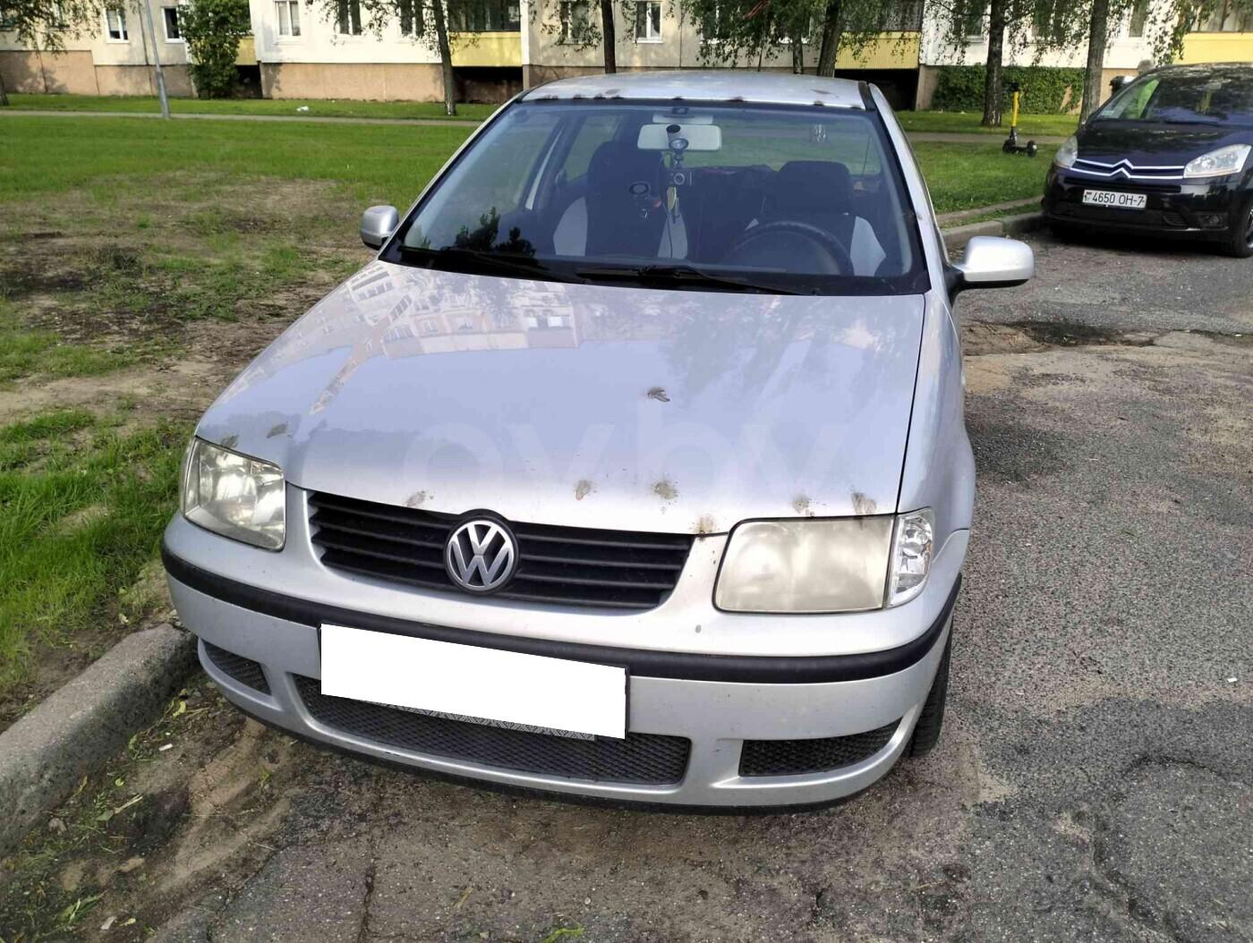Polo_2000-2002: (158, 54, 1017, 810)
